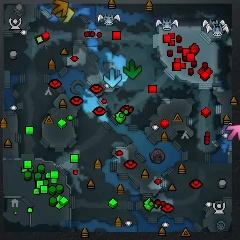x1: (226, 125, 240, 141)
x2: (55, 7, 76, 23)
x3: (104, 69, 121, 88)
x4: (123, 60, 141, 79)
x5: (52, 0, 70, 15)
